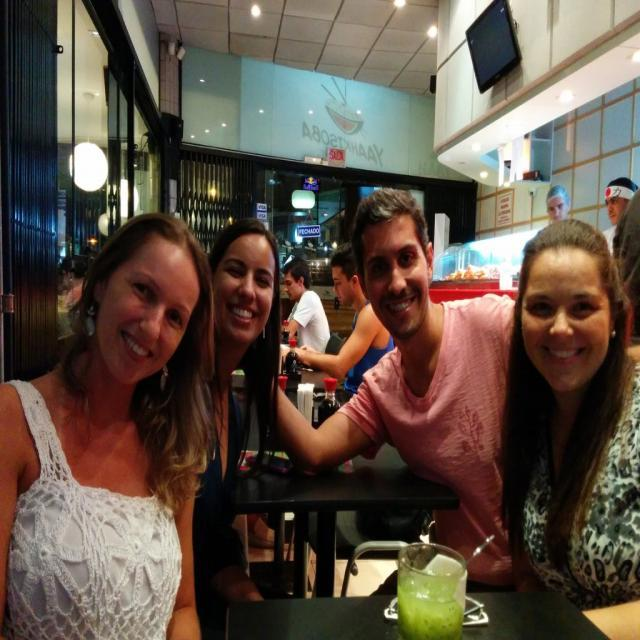Juice: (403, 560, 471, 639)
